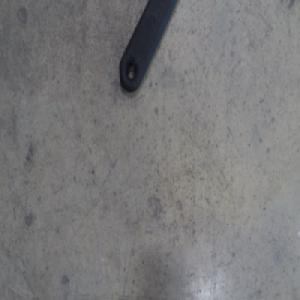AdjustableWrench: (119, 0, 176, 93)
